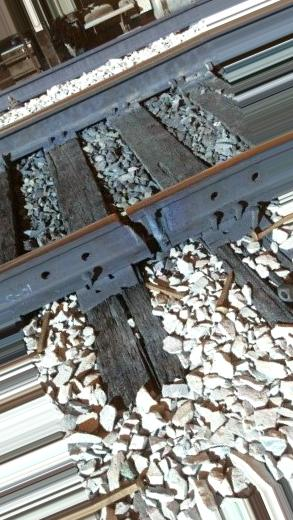tracks_fault: (35, 163, 266, 326)
